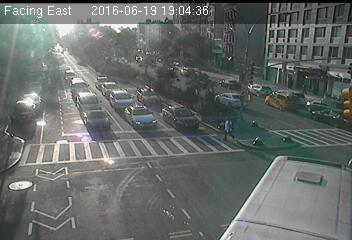neg: (152, 115, 172, 141), (252, 101, 271, 127)
pos: (218, 112, 237, 137)
